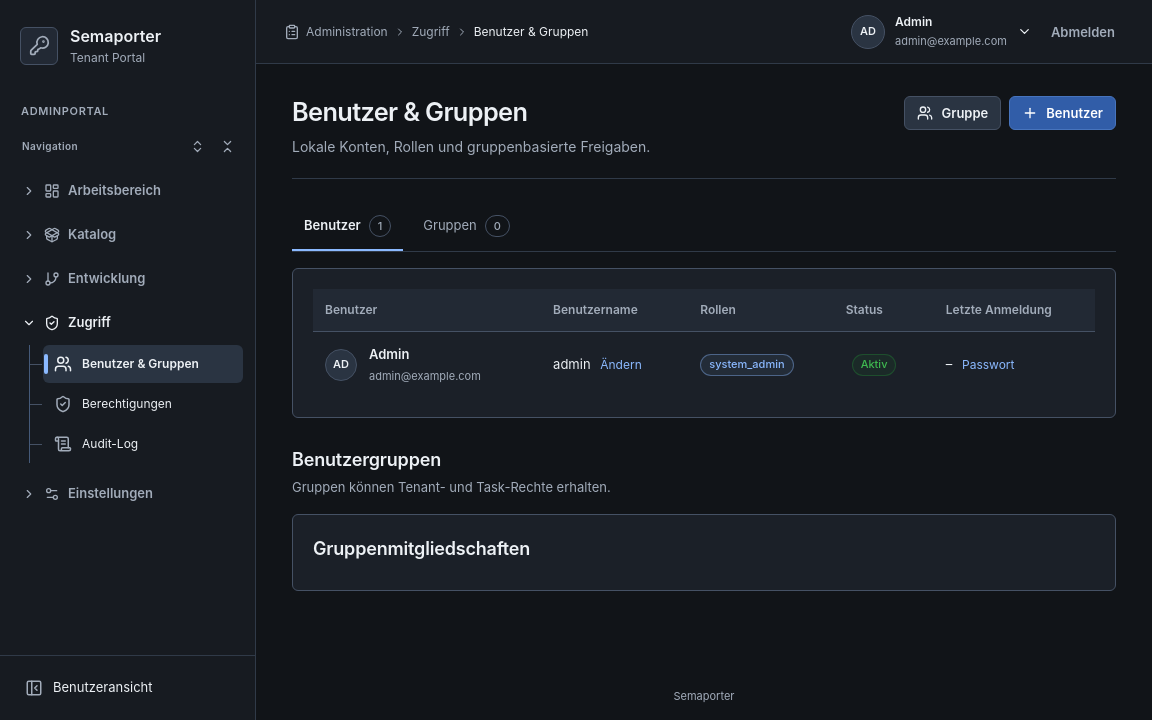
Test: Portal-Flows › ändert den Benutzernamen eines bestehenden Kontos über die Benutzerverwaltung
The width and height of the screenshot is (1152, 720).
Click the button with aria-label "Benutzername ändern · Admin".
click(621, 365)  # box [594,355,648,375]
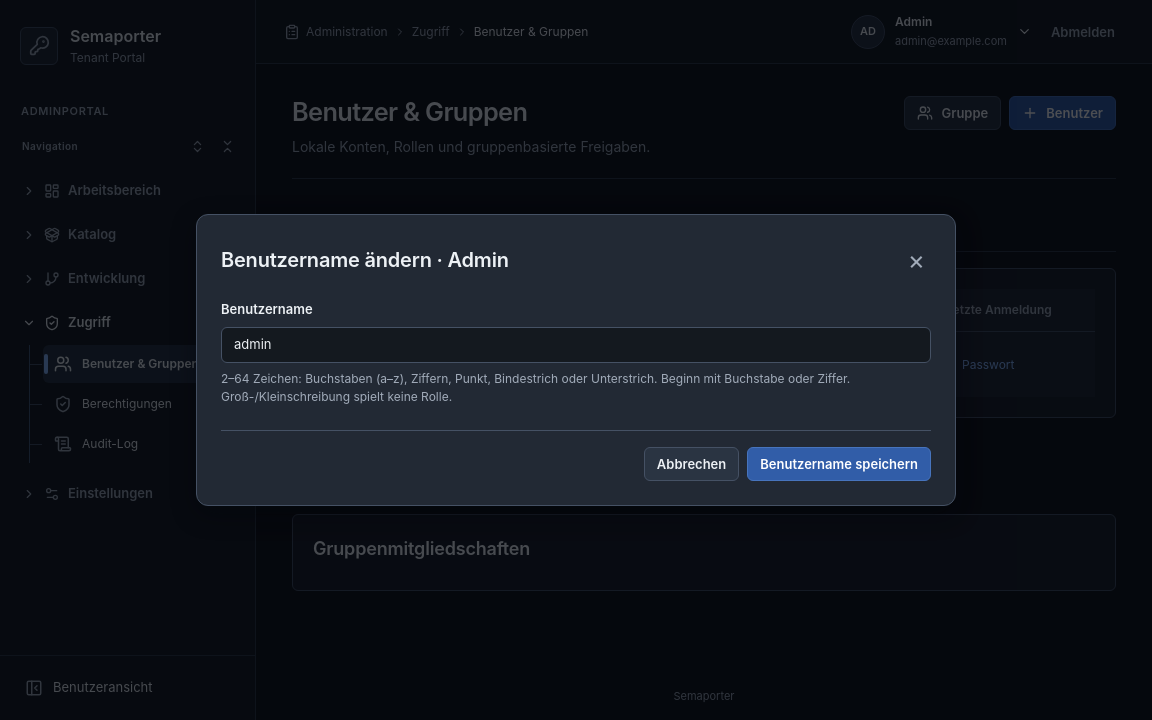
Replace the text in the field labelled "Benutzername" with "Louis.Findeisen" at (576, 345), box [221,327,931,363]
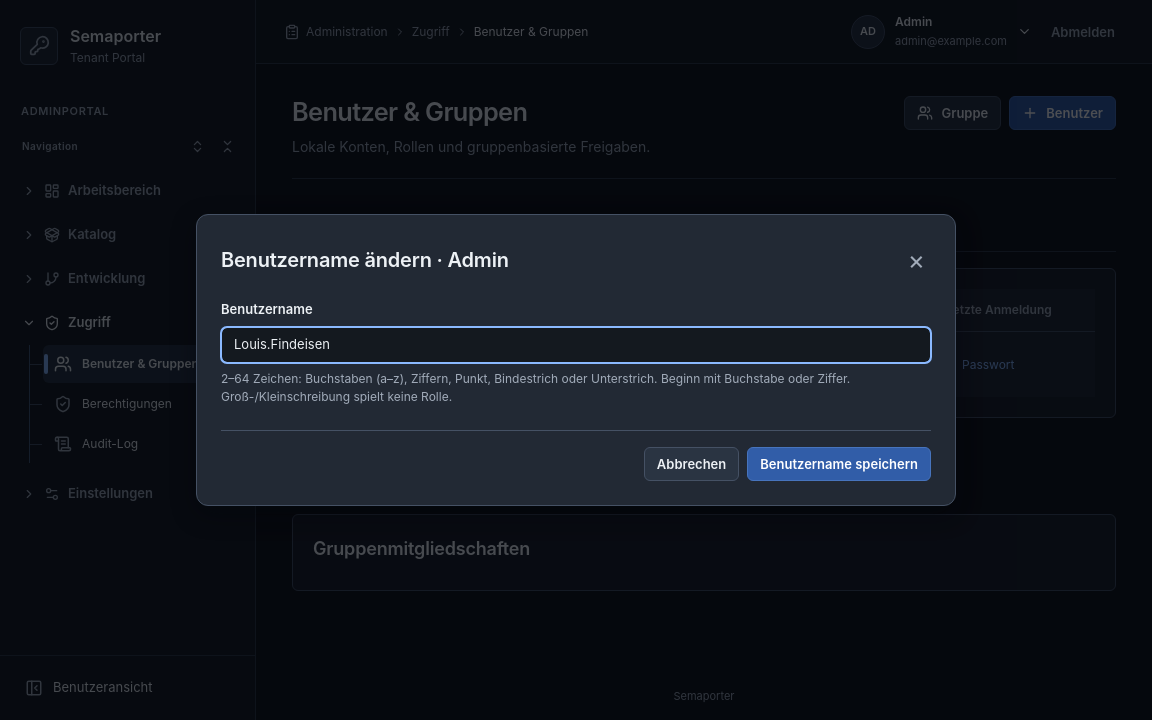
Click the button "Benutzername speichern".
click(839, 464)  # box [747,447,931,481]
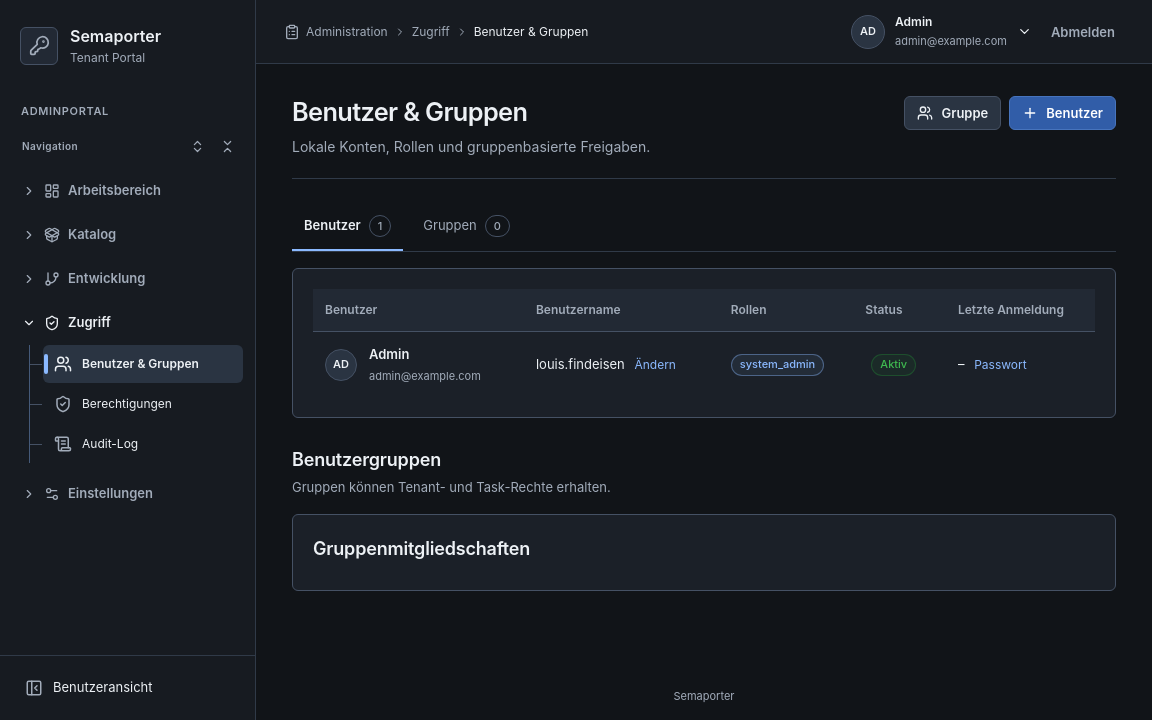
Expected: the dialog is gone
Expected: the text "louis.findeisen" is shown, [536,356,625,372]
